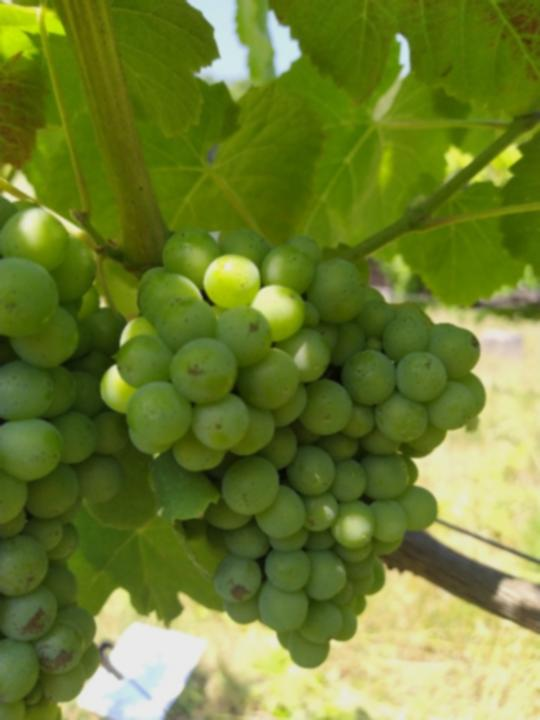grape: (96, 226, 488, 671)
